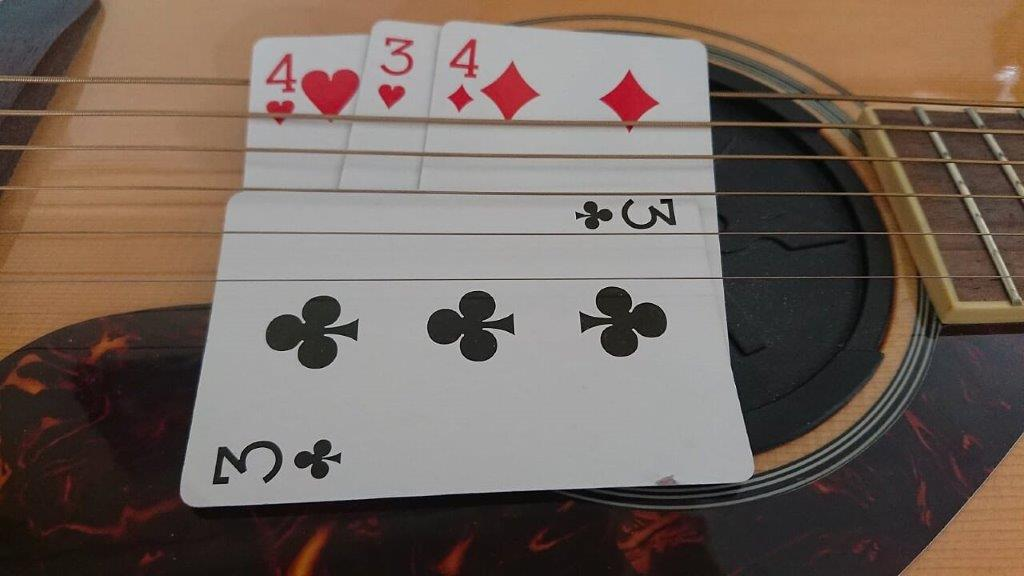3H: (374, 34, 417, 112)
4D: (442, 34, 483, 116)
4H: (261, 49, 301, 128)
